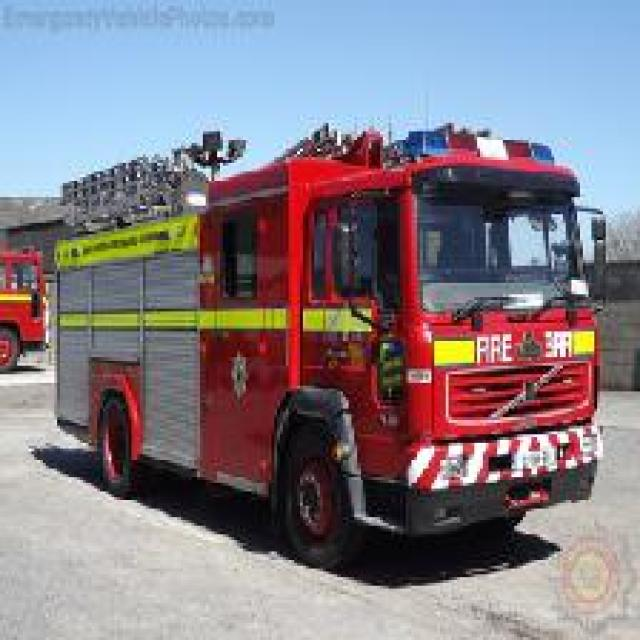Fire-truck: (46, 120, 608, 569), (0, 243, 49, 371)
